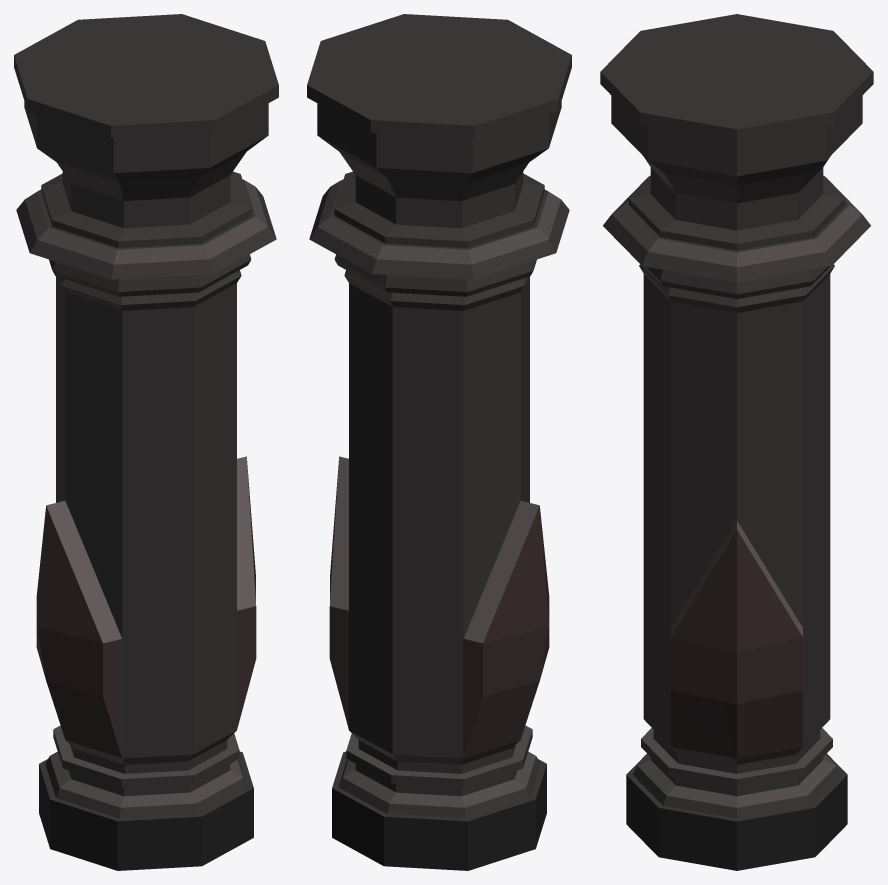
Rendered from Pillar_Cylinder_01.glb.
The picture shows the model from 3 angles, left to right: view 1: azimuth 30°, elevation 25°; view 2: azimuth 150°, elevation 25°; view 3: azimuth 270°, elevation 25°; orthographic projection.
Parts seen in each view (by area): view 1: Pillar_Cylinder_01; view 2: Pillar_Cylinder_01; view 3: Pillar_Cylinder_01.
Boxes of the visible parts, x1=… form: Pillar_Cylinder_01: x1=14, y1=14, x2=278, y2=870; Pillar_Cylinder_01: x1=307, y1=14, x2=571, y2=870; Pillar_Cylinder_01: x1=600, y1=14, x2=873, y2=870.
Size of what is drawn, in the model's own units: 1.32 by 4 by 1.32.
Materials: 1 (1 with a texture image).
